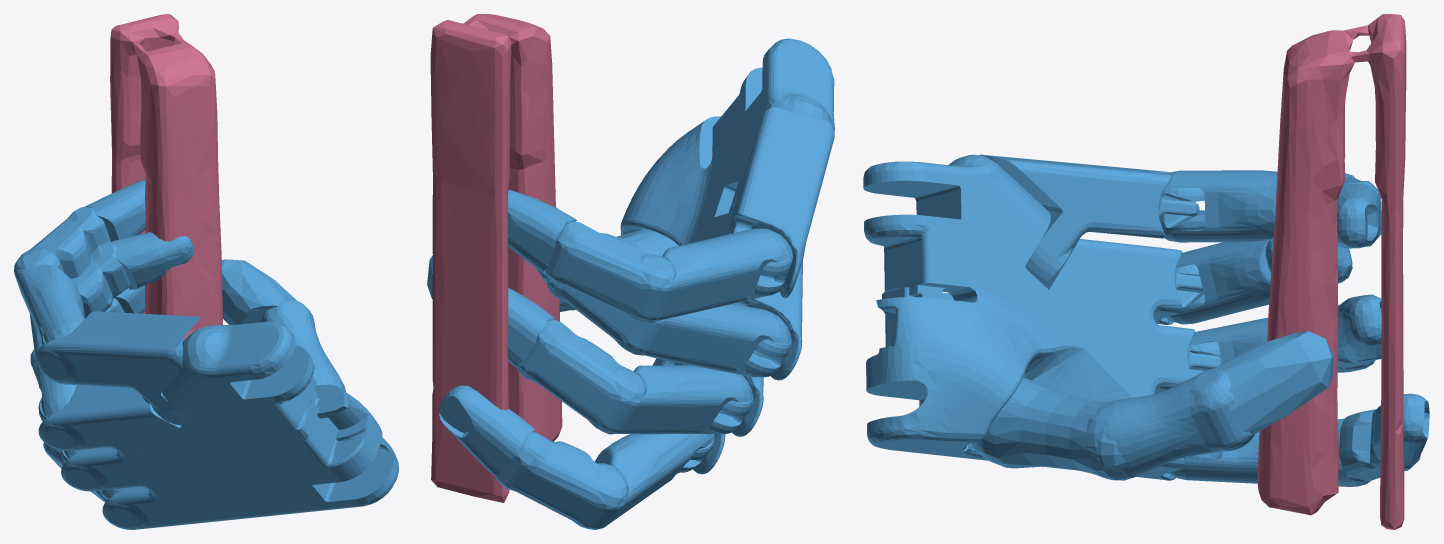
3 views of the same model, side by side, from view 1: azimuth 30°, elevation 25°; view 2: azimuth 150°, elevation 25°; view 3: azimuth 270°, elevation 25° (orthographic). The views are drawn at different scales.
Visible parts, largest first — view 1: 2; view 2: 2; view 3: 2.
Part boxes in pixels (x1,y1,x2,y2): 2: (14,14,398,529); 2: (427,14,834,529); 2: (863,14,1429,529).
Bounding box in the file's own units: 0.1131 × 0.1575 × 0.1576.
